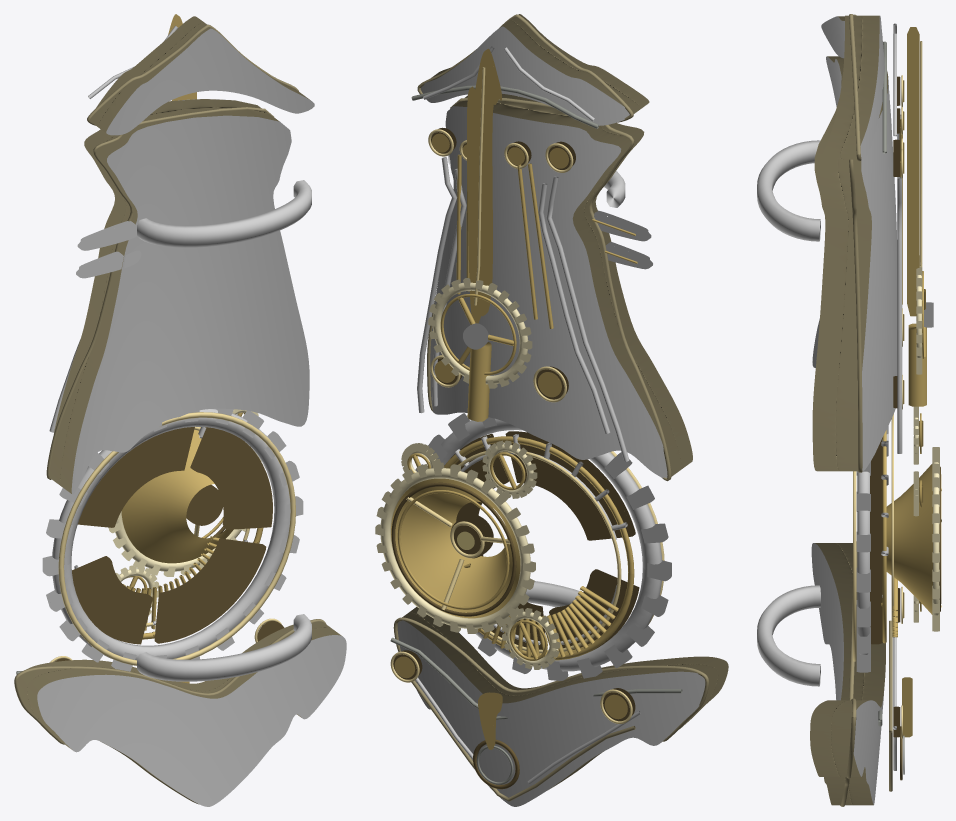
Rendered from blazing_justice_left.obj.
3 renders of one model, left to right at view 1: azimuth 30°, elevation 25°; view 2: azimuth 150°, elevation 25°; view 3: azimuth 270°, elevation 25°, orthographic. The views are drawn at different scales.
Visible parts, largest first — view 1: blazing_justice; view 2: blazing_justice; view 3: blazing_justice.
Boxes of the visible parts, x1,y1,x2,y2 form: blazing_justice: [14, 14, 346, 806]; blazing_justice: [375, 14, 728, 806]; blazing_justice: [757, 14, 941, 806].
Bounding box in the file's own units: 0.6293 × 1.49 × 0.3154.
